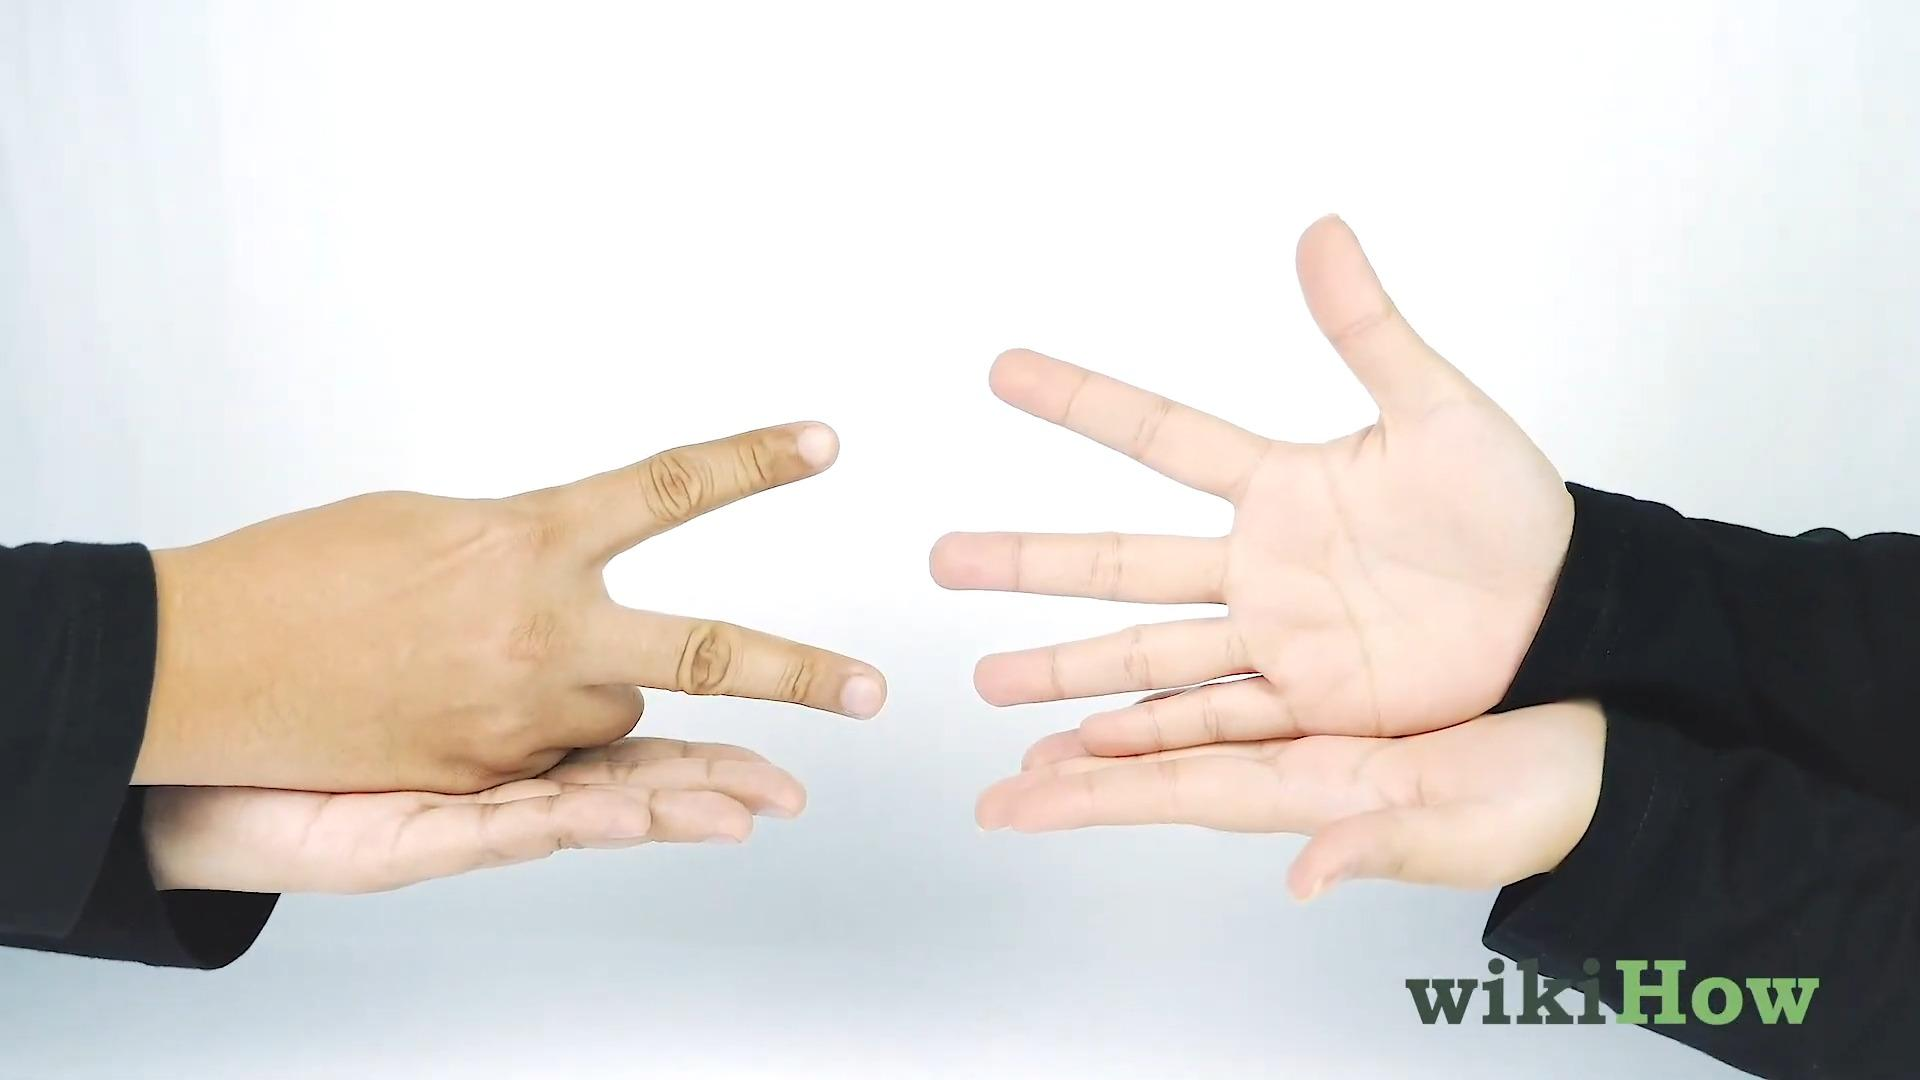Paper: (918, 210, 1568, 758)
Scissors: (165, 415, 884, 795)
